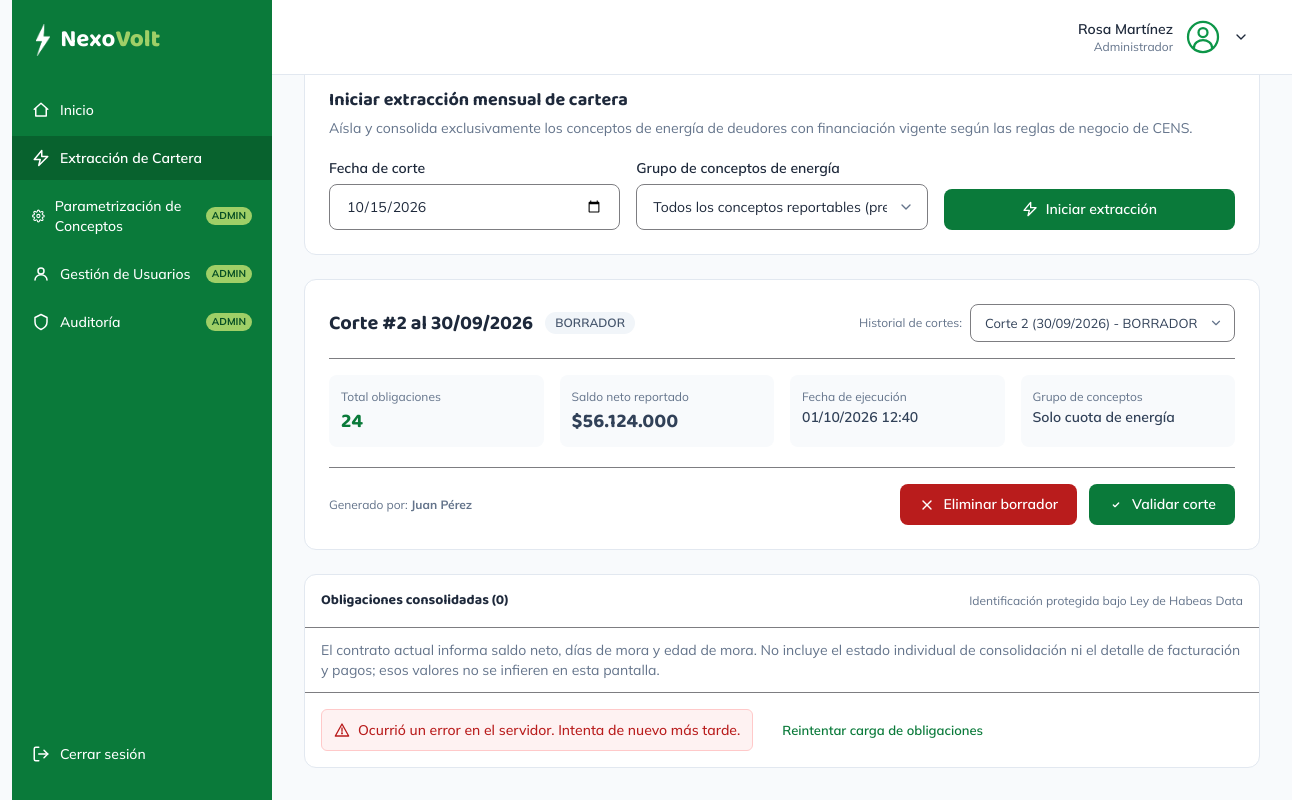
it: pantalla de extracción y consolidación de cartera (RF1–RF5) › muestra el error al cargar obligaciones y permite reintentar
(page scrolled)
Expected: the message shows "Ocurrió un error en el servidor", [358,721,740,739]
Click the button "Reintentar carga de obligaciones": (883, 730) [765,713,1000,747]
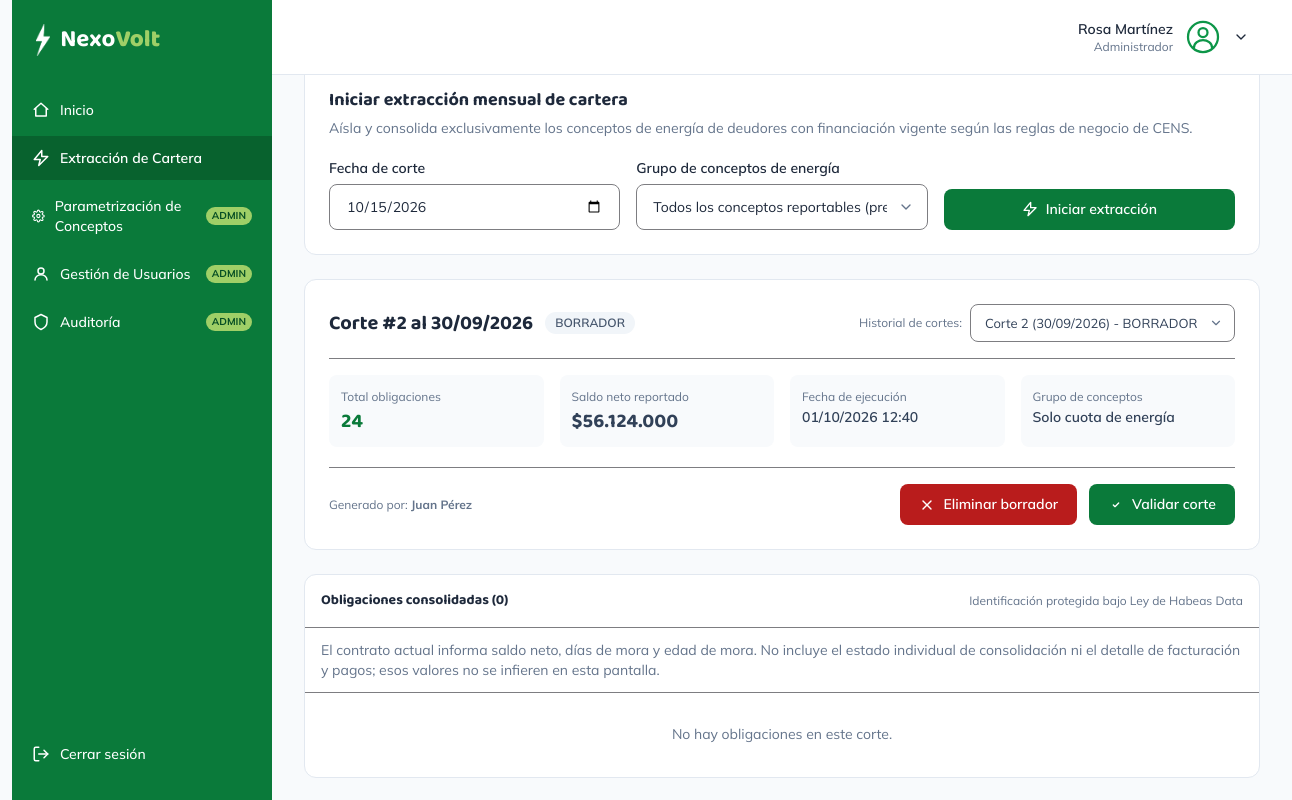
Now the text "No hay obligaciones en este corte." is shown, box [672,725,892,743]
